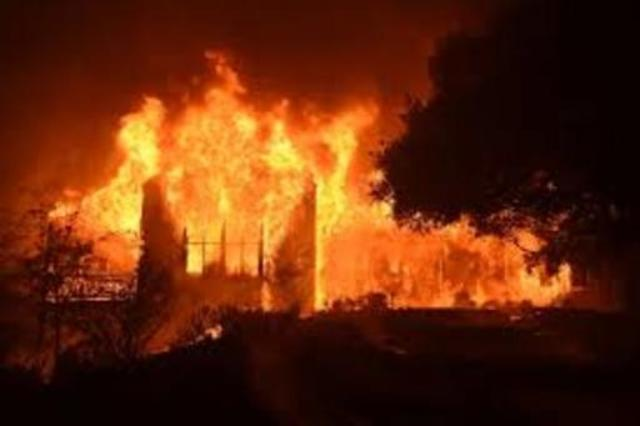fire: (44, 50, 398, 315), (431, 216, 572, 310)
smoke: (1, 1, 488, 201)
